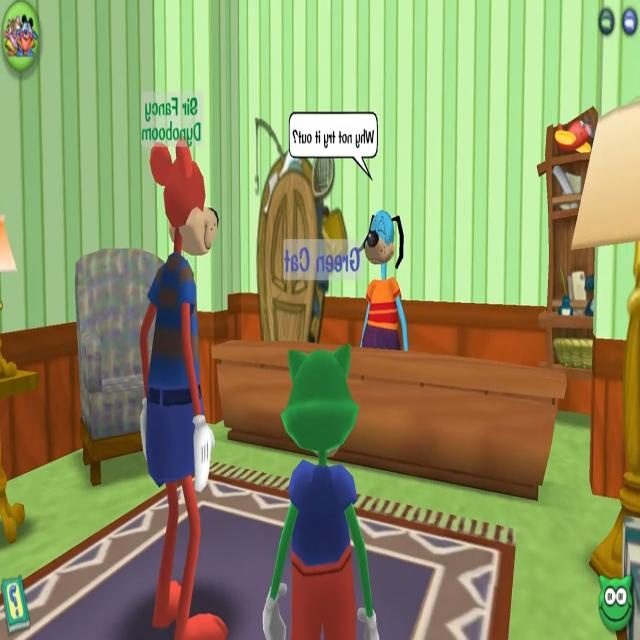npc: (350, 198, 415, 376)
